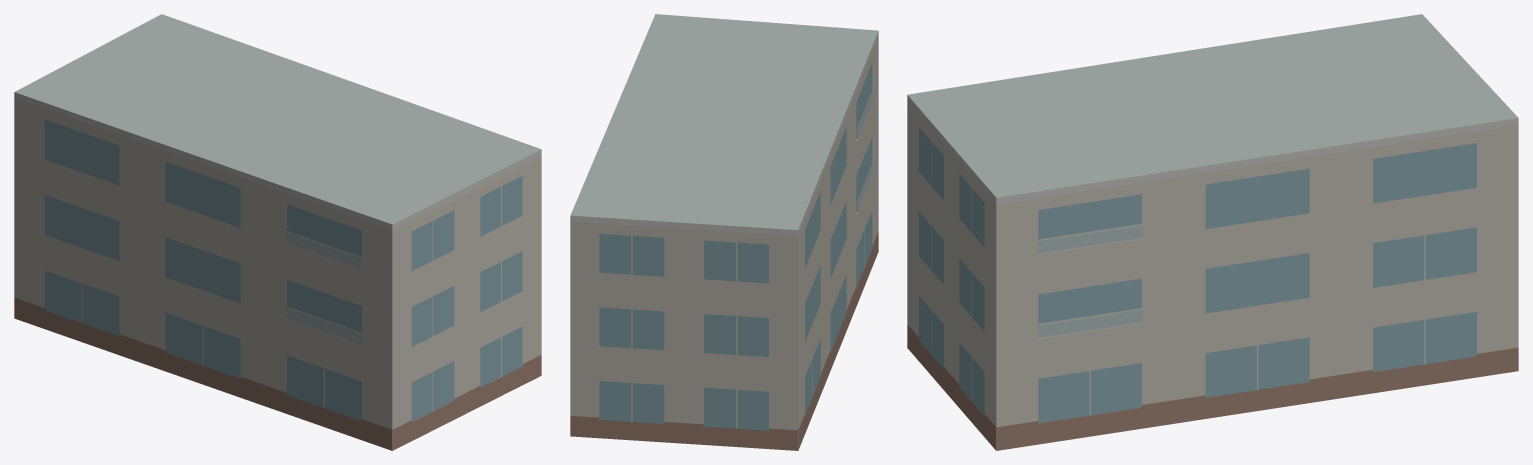
Rendered from survey-upis-32838968.glb.
The picture shows the model from 3 angles, left to right: view 1: azimuth 30°, elevation 25°; view 2: azimuth 150°, elevation 25°; view 3: azimuth 270°, elevation 25°; orthographic projection. The views are drawn at different scales.
Parts seen in each view (by area): view 1: survey-upis-32838968.tmp; view 2: survey-upis-32838968.tmp; view 3: survey-upis-32838968.tmp.
Part boxes in pixels (x1,y1,x2,y2): survey-upis-32838968.tmp: [14, 14, 541, 450]; survey-upis-32838968.tmp: [570, 14, 878, 450]; survey-upis-32838968.tmp: [907, 14, 1518, 450].
Size of the model in its own units: 14.34 by 9.2 by 20.15.
